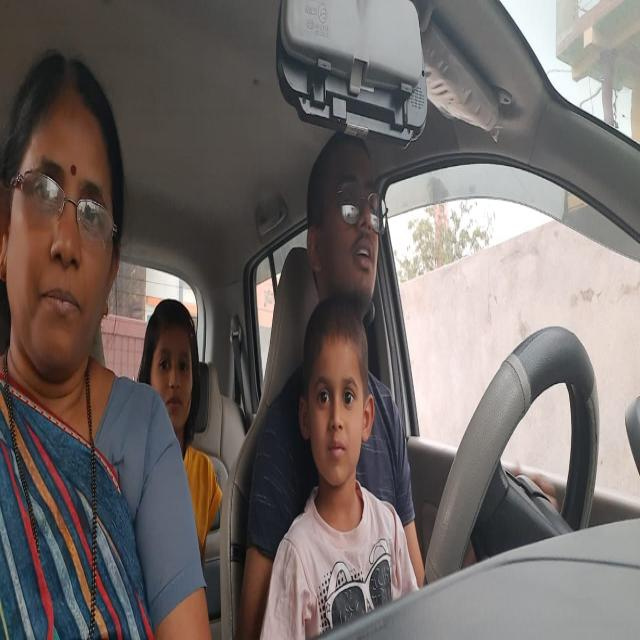child: (293, 298, 385, 506)
person: (3, 42, 130, 435), (306, 129, 394, 312), (141, 288, 207, 442)
